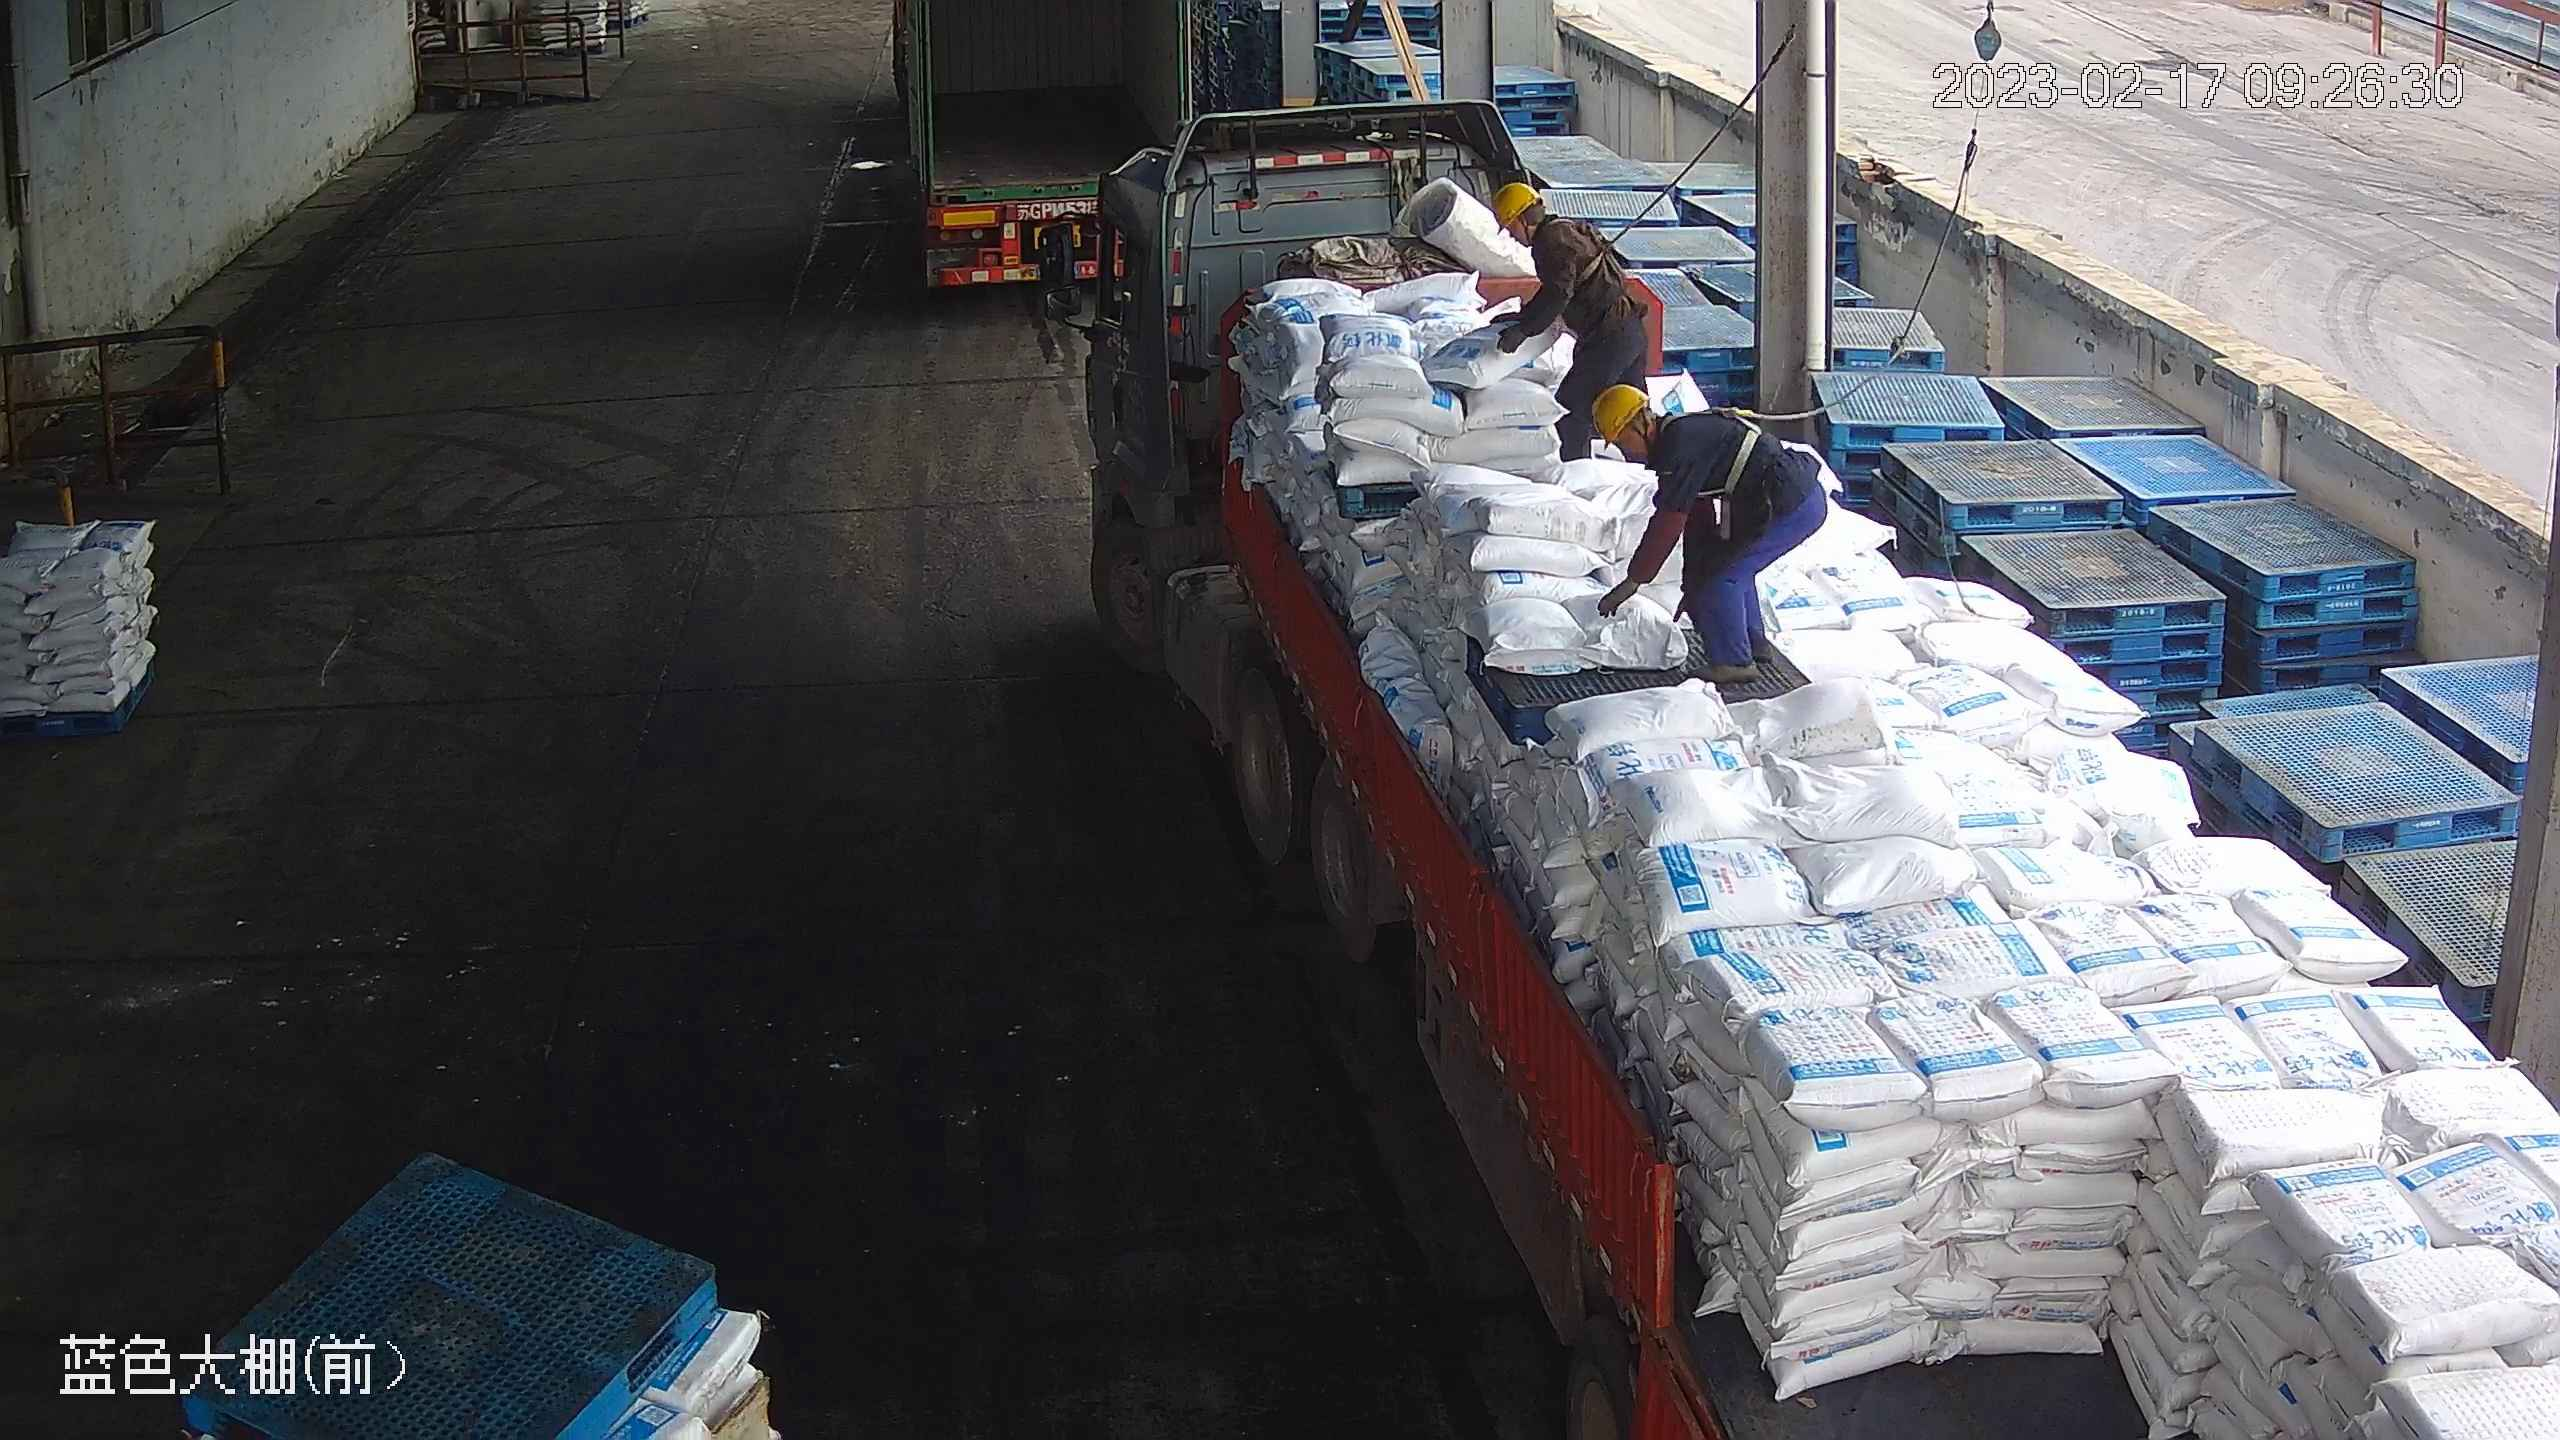belt: (1659, 396, 1771, 496), (1541, 210, 1623, 289)
head: (1589, 379, 1724, 486), (1492, 182, 1600, 279)
helmet: (1590, 382, 1651, 451), (1494, 181, 1542, 231)
people: (1586, 380, 1829, 693), (1485, 179, 1660, 476)
truck: (1046, 95, 2548, 1440), (883, 1, 1195, 298)
